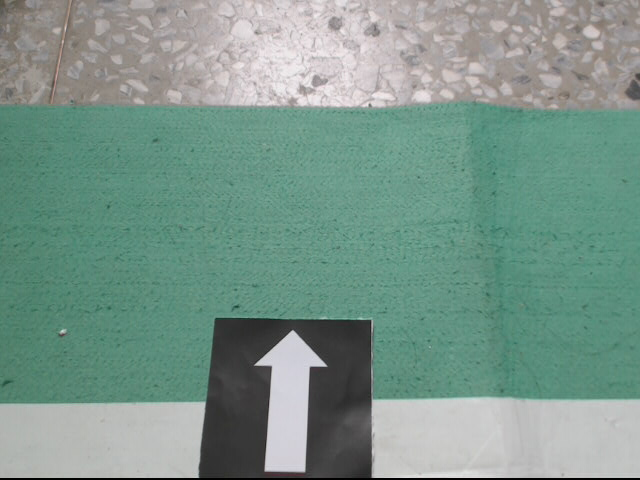straight: (199, 316, 374, 449)
